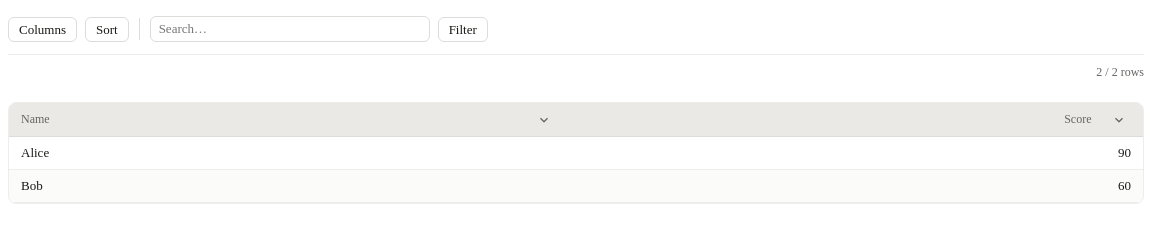
Test case: DataTable — filter dropdown › select-all checkbox re-checks every value when all are already excluded
The image size is (1152, 238).
Click the button "Filter": (463, 29) [438,16,488,42]
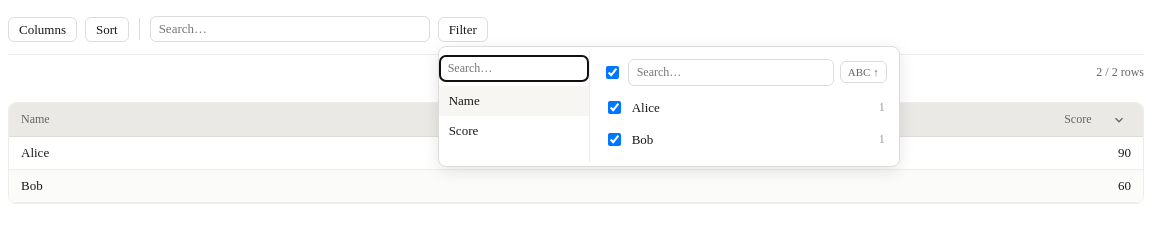
Click the checkbox named "Select all": (612, 72) [606,66,619,78]
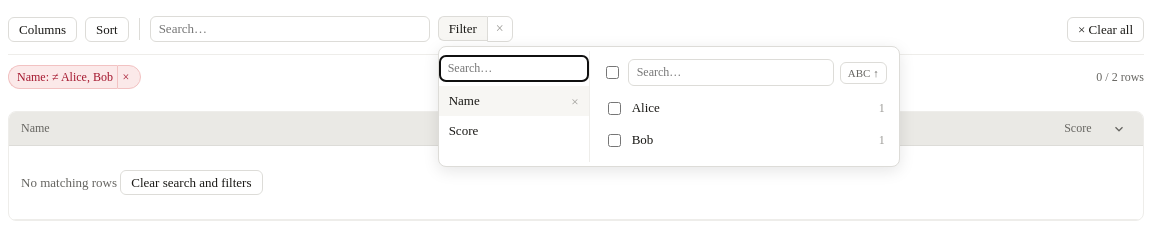
Click the checkbox named "Select all": (612, 72) [606,66,619,79]
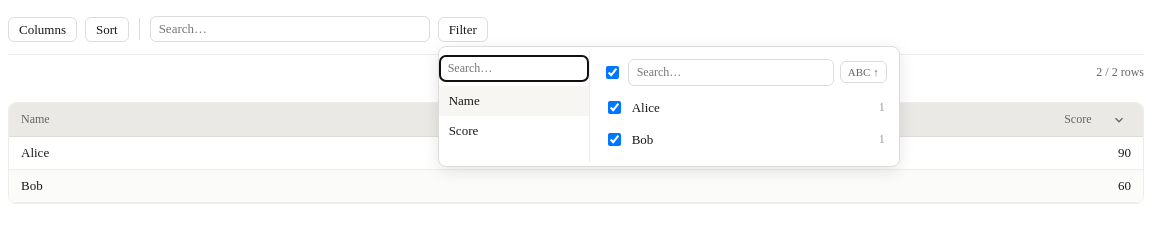
Now the checkbox labelled "Alice" is checked, box [608,101,621,114]
Now the checkbox labelled "Bob" is checked, box [608,133,621,146]
